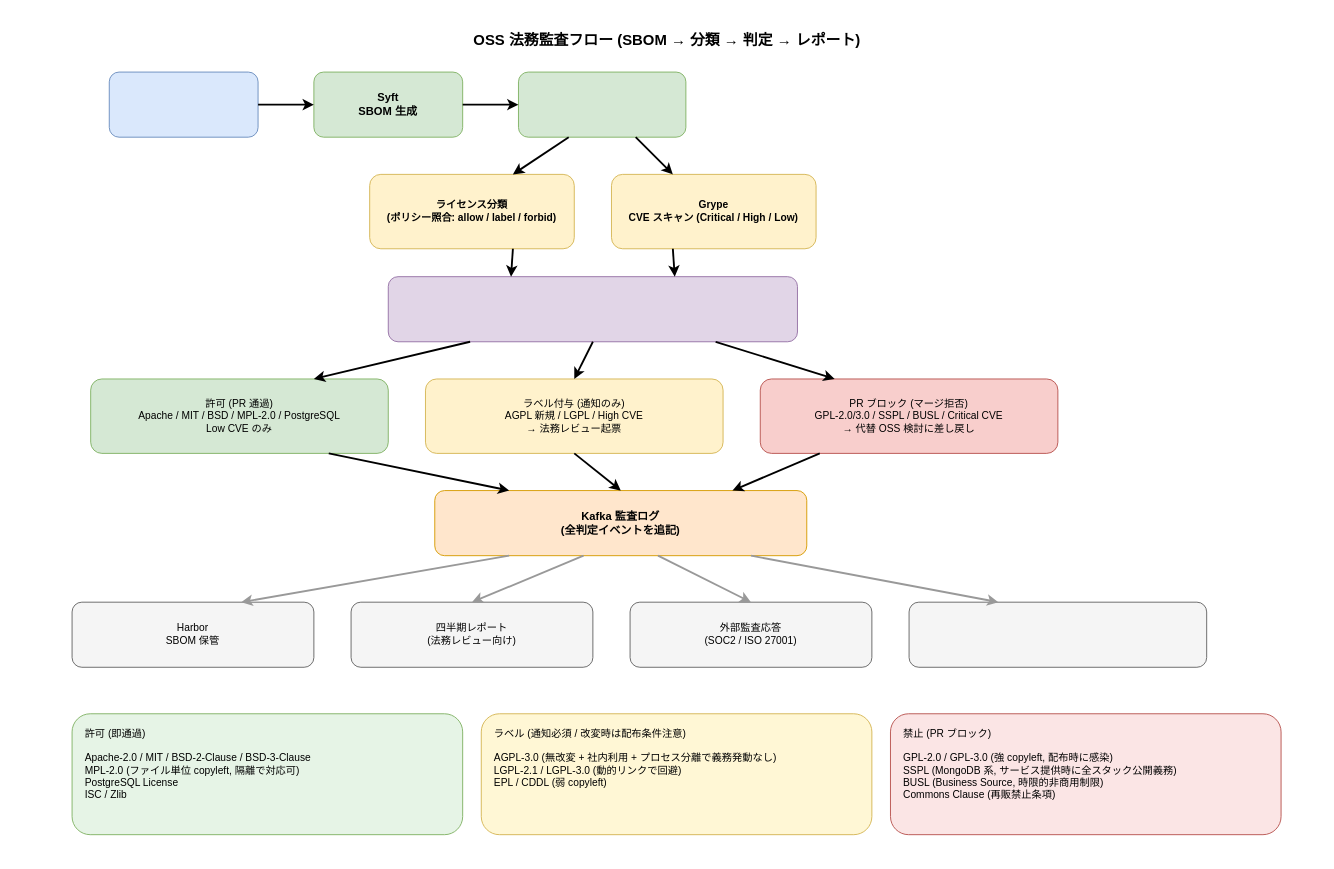
This 1334x869 diagram has some shape labels left out. The centre of each missing label's shape, as x and y in pixels:
CI ビルド (GitHub Actions): the point at 183,104
SBOM 成果物 (依存コンポーネント一覧): the point at 602,104
法務ダッシュボード (Grafana 可視化): the point at 1057,634
統合判定 ライセンス結果 + CVE 重大度 → 最終判断: the point at 592,309
